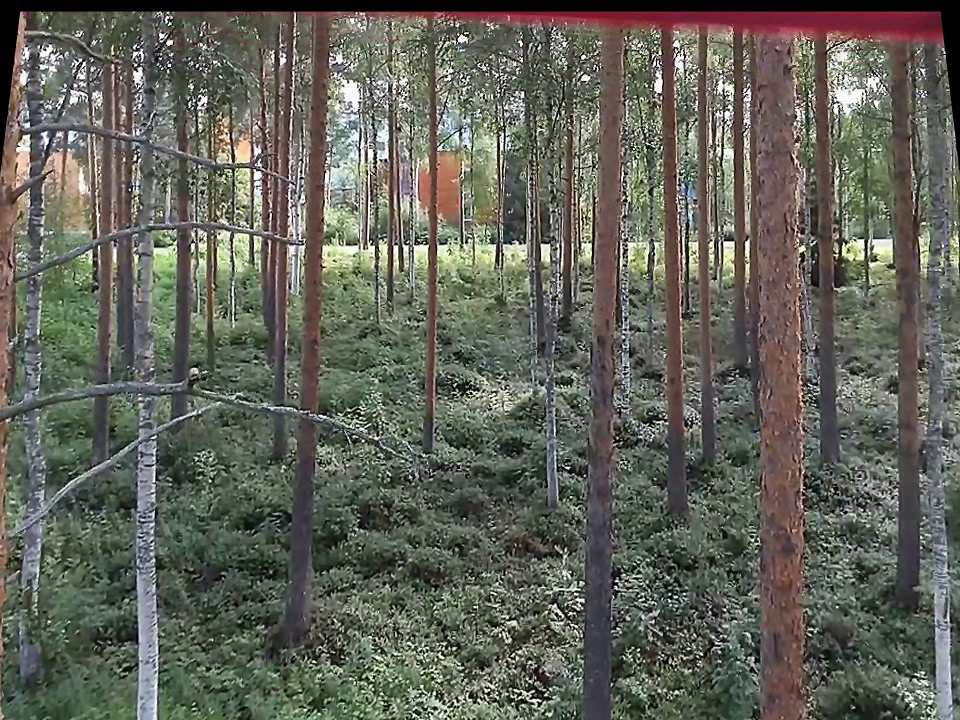branch: (8, 364, 415, 471), (23, 112, 300, 193), (16, 220, 299, 279), (27, 25, 128, 67)
trunk: (743, 38, 815, 711), (116, 24, 170, 712), (878, 44, 935, 602), (571, 30, 617, 713), (276, 16, 325, 646), (18, 24, 54, 688), (653, 35, 697, 521), (803, 41, 851, 463), (524, 152, 572, 507), (688, 48, 727, 464), (418, 18, 444, 458)
